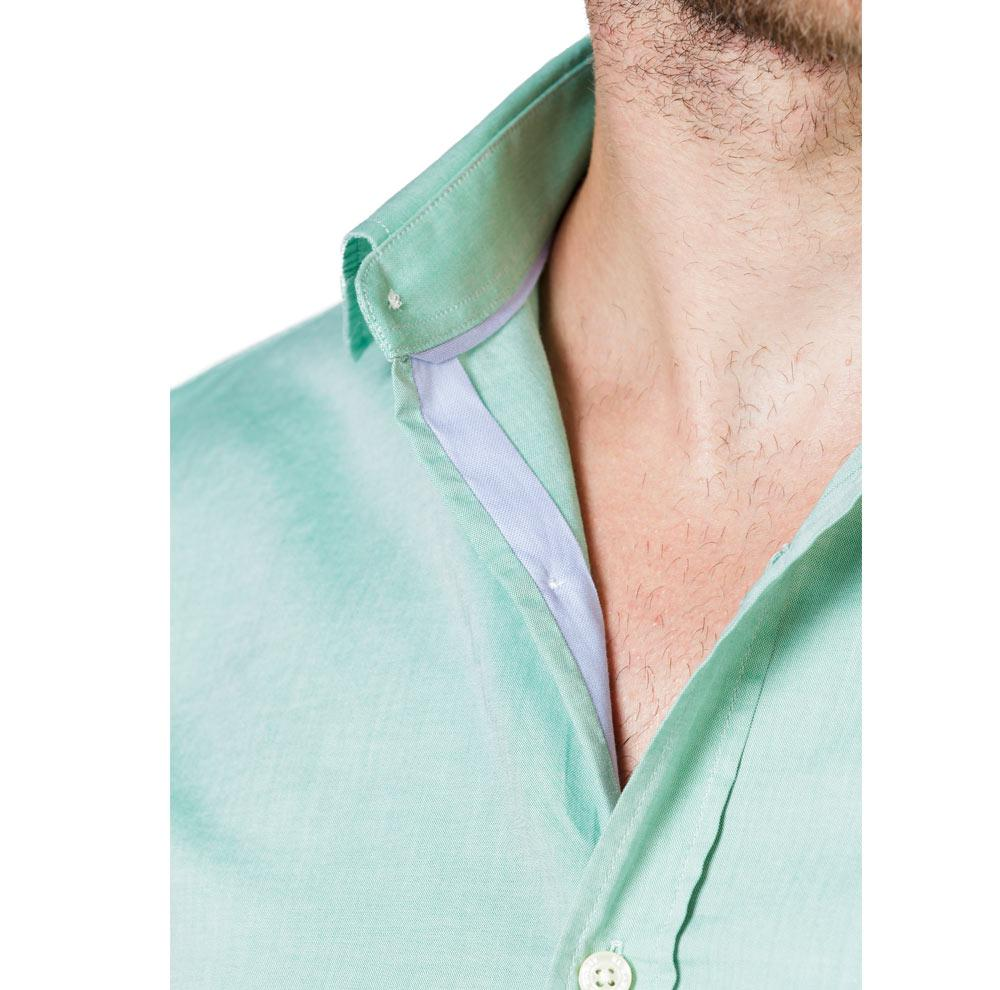teeshirt: (130, 38, 883, 989)
